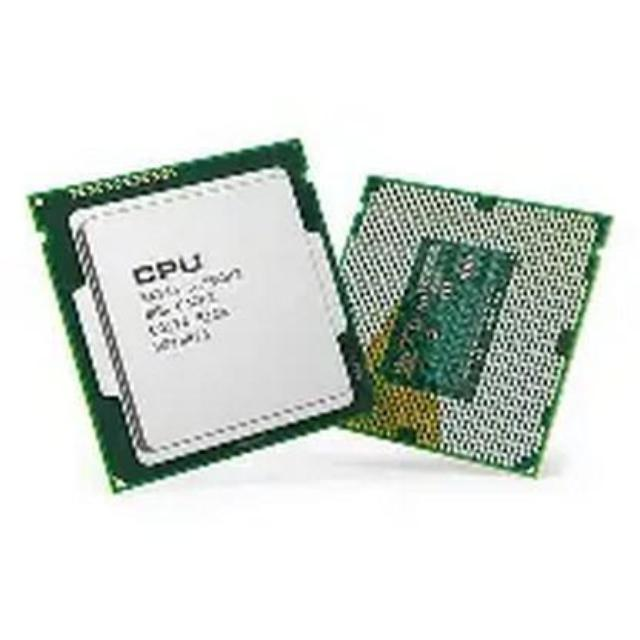CPU: (20, 147, 369, 484), (346, 162, 608, 474)
